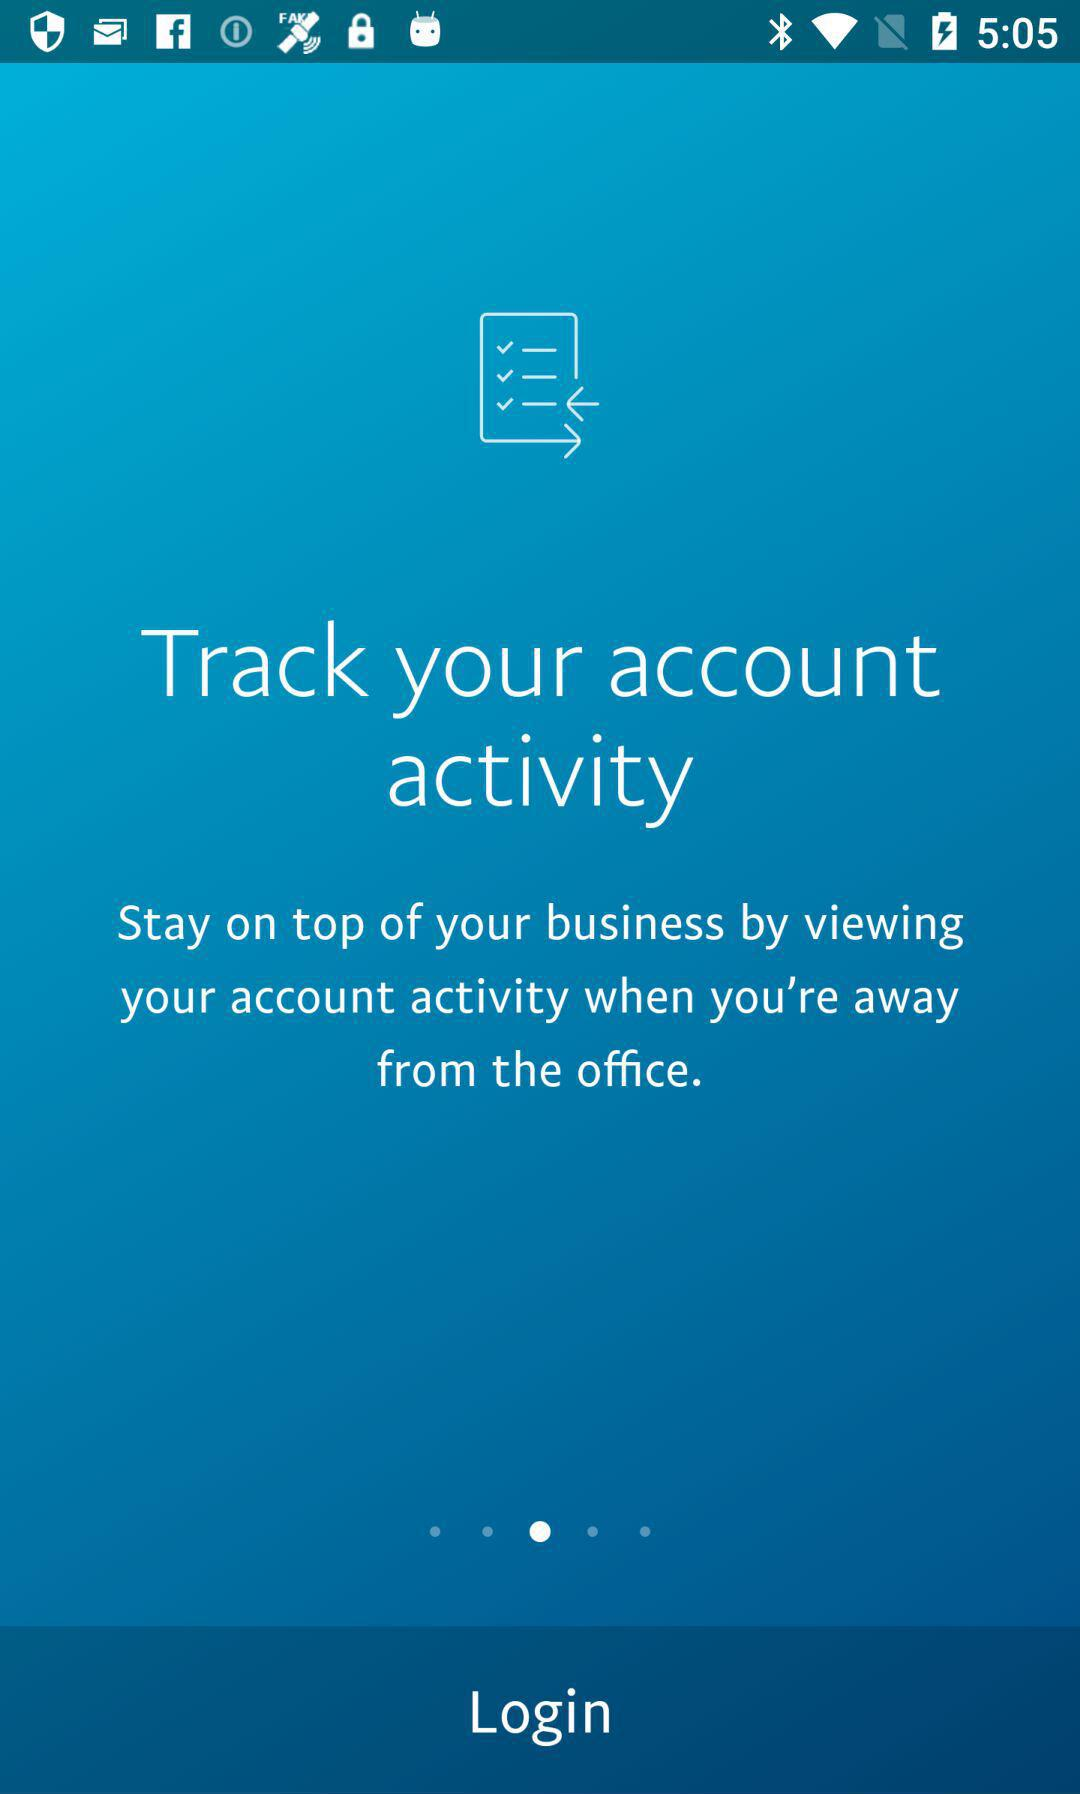Icon: (479, 313, 600, 459)
PageIndicator: (428, 1518, 652, 1544)
Text: (143, 620, 942, 828), (118, 903, 965, 1089)
TextButton: (1, 1627, 1080, 1794)
UpperTaskBar: (1, 1, 1080, 64)
